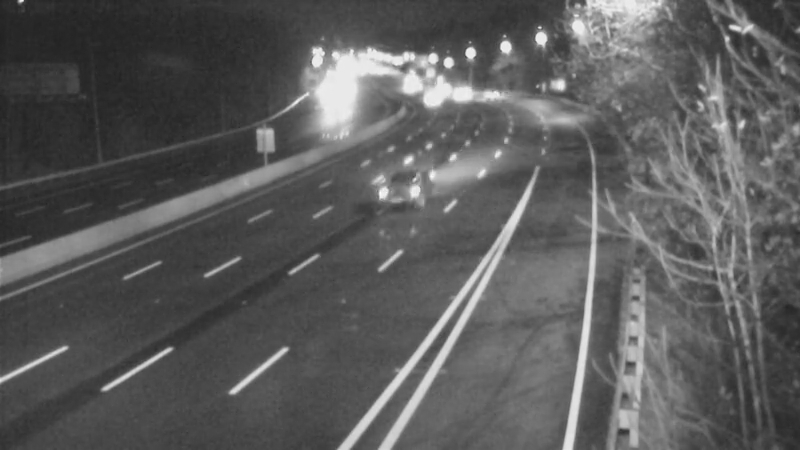vehicle: (364, 145, 444, 225), (401, 74, 451, 124), (462, 66, 512, 116)
